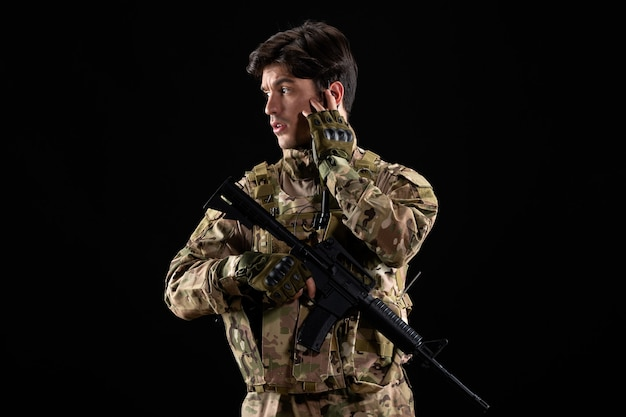gun: (204, 173, 491, 412)
